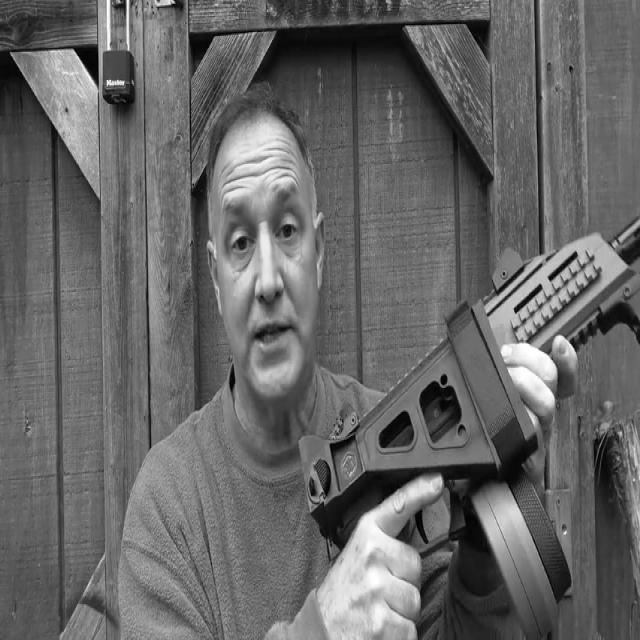Sub-machine-gun: (231, 181, 640, 640)
